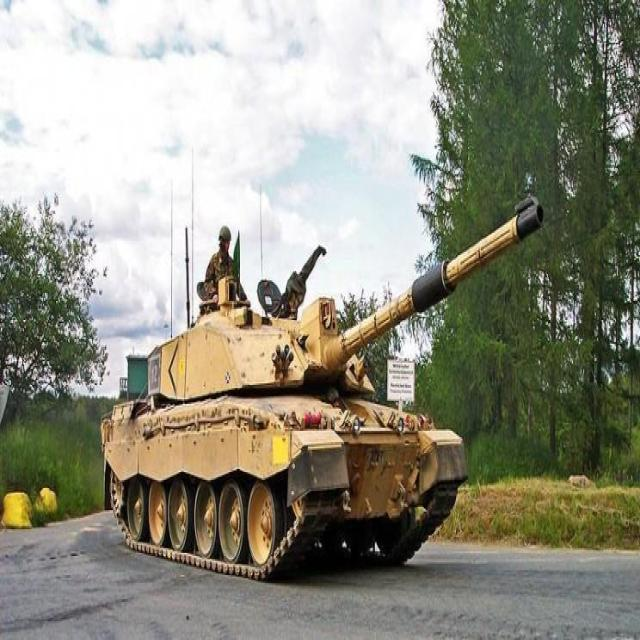Tanks: (97, 201, 540, 570)
